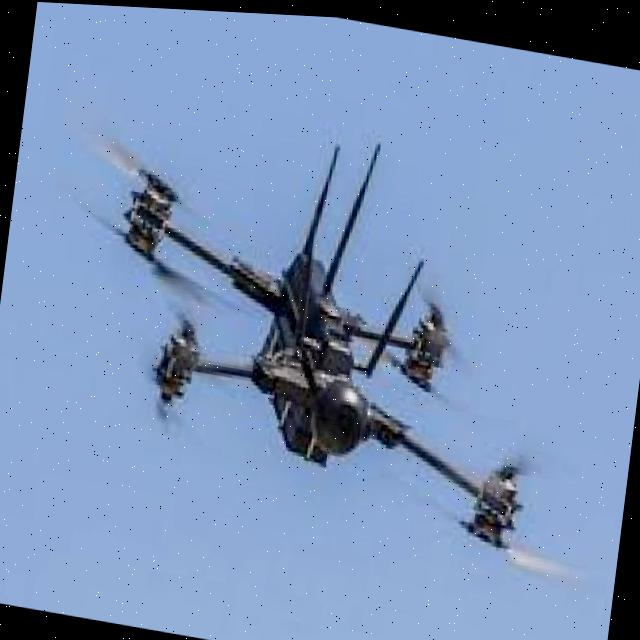drone: (12, 89, 629, 610)
